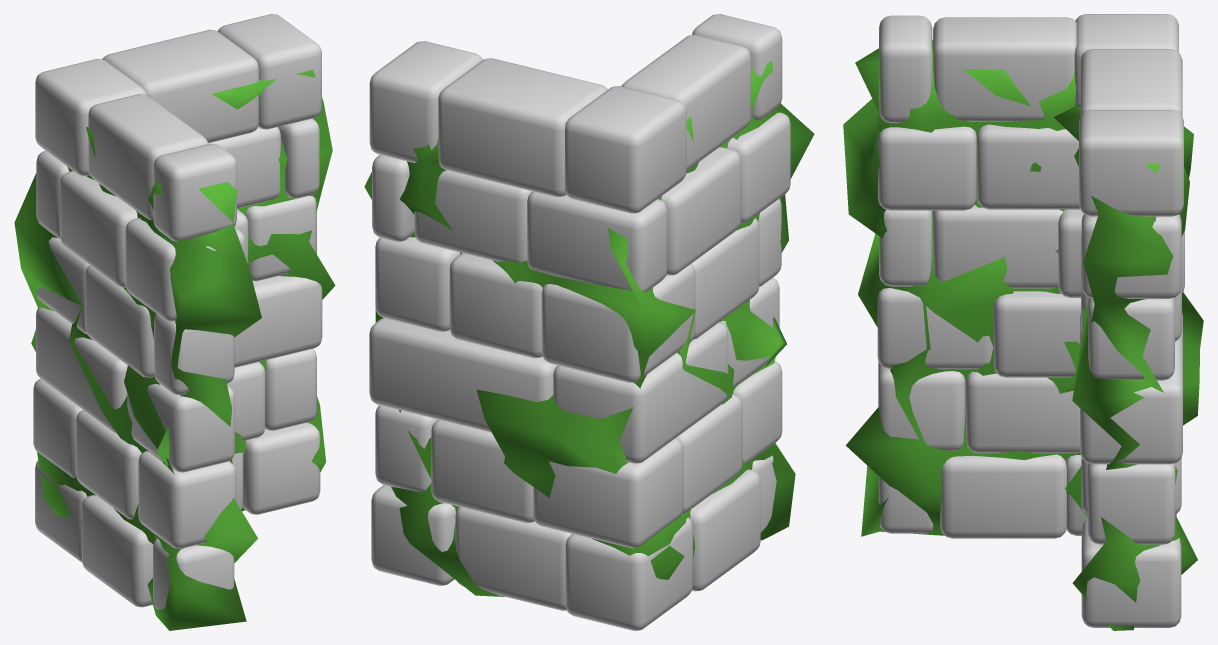
The model's file is walls_corner_future.fbx.
3 renders of one model, left to right at view 1: azimuth 30°, elevation 25°; view 2: azimuth 150°, elevation 25°; view 3: azimuth 270°, elevation 25°, orthographic. The views are drawn at different scales.
Visible parts, largest first — view 1: Cube.033; view 2: Cube.033; view 3: Cube.033.
Part boxes in pixels (x1,y1,x2,y2): Cube.033: (14, 14, 335, 630); Cube.033: (364, 14, 814, 630); Cube.033: (843, 14, 1203, 630).
Size of the model in its own units: 1.13 by 1.84 by 1.22.
